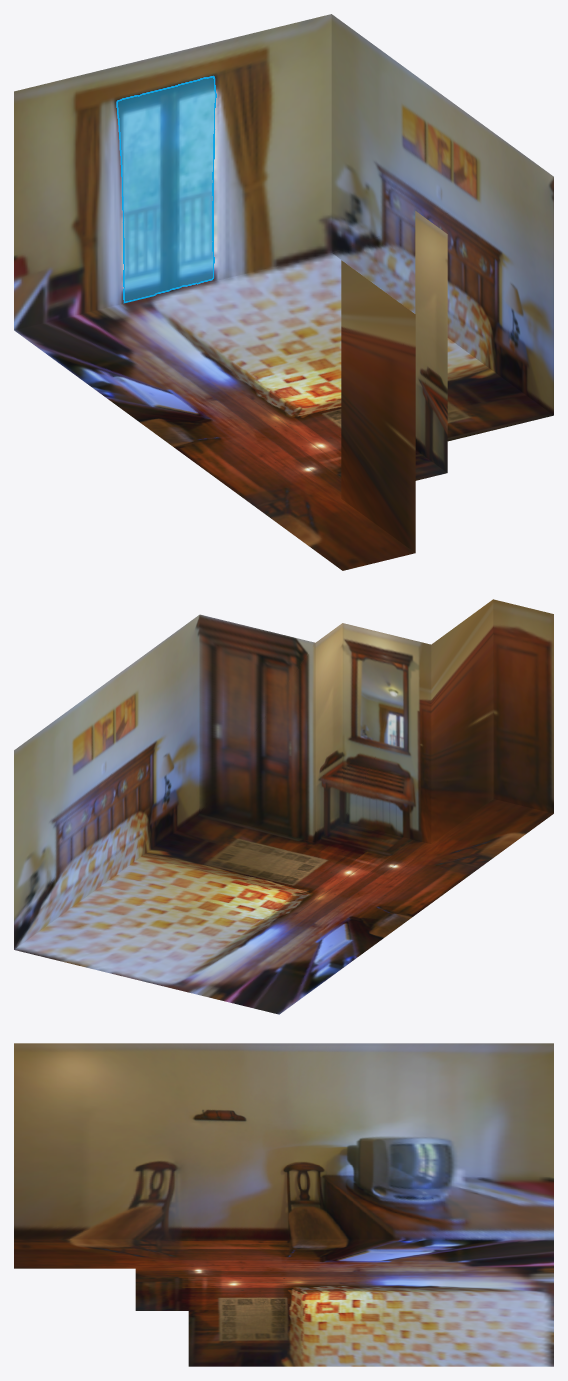
File: room.glb
3 views of the same model, one above another, from view 1: azimuth 30°, elevation 25°; view 2: azimuth 150°, elevation 25°; view 3: azimuth 270°, elevation 25° (orthographic). The views are drawn at different scales.
Parts seen in each view (by area): view 1: room; view 2: room; view 3: room.
Boxes of the visible parts, x1,y1,x2,y2 form: room: (14,14,553,570); room: (14,599,553,1014); room: (14,1043,553,1366).
Size of the model in its own units: 3.09 by 2.22 by 5.53.
10 materials, 10 textured.
